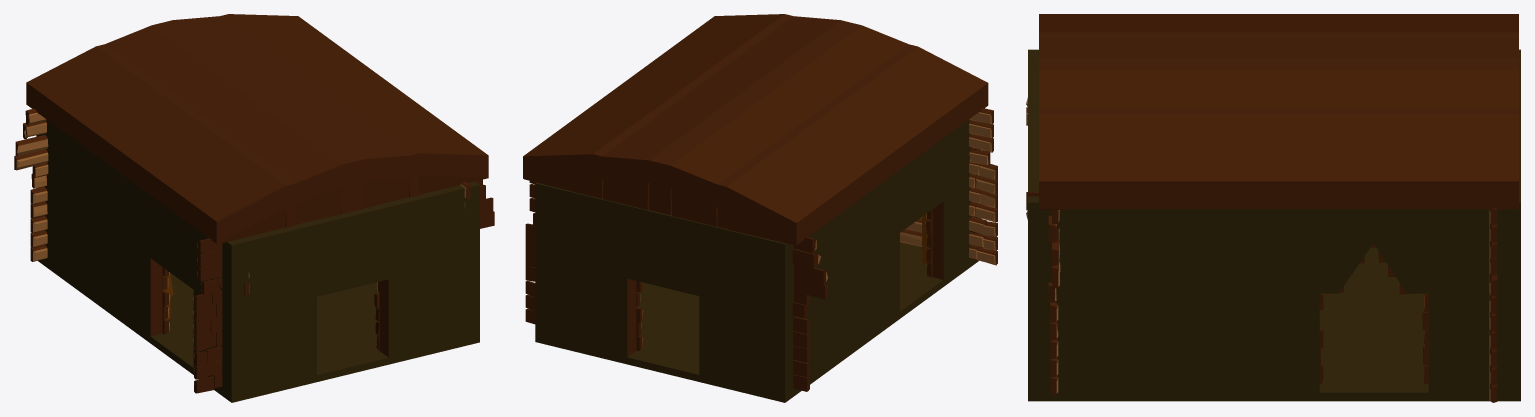
Rendered from 1Room.fbx.
3 renders of one model, left to right at view 1: azimuth 30°, elevation 25°; view 2: azimuth 150°, elevation 25°; view 3: azimuth 270°, elevation 25°, orthographic. The views are drawn at different scales.
Parts seen in each view (by area): view 1: Cube.027, Cube.005, Cube.025, Cube.018, Cube.026, Cube.019, Cube.017, Cube.021; view 2: Cube.027, Cube.005, Cube.017, Cube.025, Cube.026, Cube.018, Cube.019, Cube.023, Cube.022, Cube.009; view 3: Cube.027, Cube.005, Cube.020, Cube.021, Cube.023, Cube.016, Cube.024, Cube.022.
Part boxes in pixels (x1=…): Cube.027: x1=26, y1=14, x2=488, y2=244; Cube.005: x1=36, y1=120, x2=479, y2=402; Cube.025: x1=30, y1=163, x2=48, y2=261; Cube.018: x1=193, y1=289, x2=222, y2=352; Cube.026: x1=14, y1=108, x2=48, y2=170; Cube.019: x1=197, y1=238, x2=222, y2=294; Cube.017: x1=194, y1=346, x2=222, y2=393; Cube.021: x1=476, y1=179, x2=494, y2=228; Cube.027: x1=523, y1=14, x2=988, y2=245; Cube.005: x1=535, y1=119, x2=981, y2=402; Cube.017: x1=900, y1=216, x2=997, y2=265; Cube.025: x1=792, y1=290, x2=809, y2=391; Cube.026: x1=792, y1=237, x2=827, y2=299; Cube.018: x1=969, y1=162, x2=997, y2=222; Cube.019: x1=969, y1=108, x2=993, y2=165; Cube.023: x1=525, y1=223, x2=642, y2=305; Cube.022: x1=525, y1=280, x2=643, y2=351; Cube.009: x1=925, y1=209, x2=932, y2=277; Cube.027: x1=1039, y1=14, x2=1518, y2=210; Cube.005: x1=1028, y1=49, x2=1520, y2=401; Cube.020: x1=1048, y1=277, x2=1059, y2=394; Cube.021: x1=1048, y1=210, x2=1060, y2=284; Cube.023: x1=1489, y1=273, x2=1497, y2=349; Cube.016: x1=1388, y1=265, x2=1428, y2=383; Cube.024: x1=1489, y1=208, x2=1497, y2=275; Cube.022: x1=1489, y1=346, x2=1497, y2=402.
Size of the model in its own units: 4191 by 2732 by 4687.
